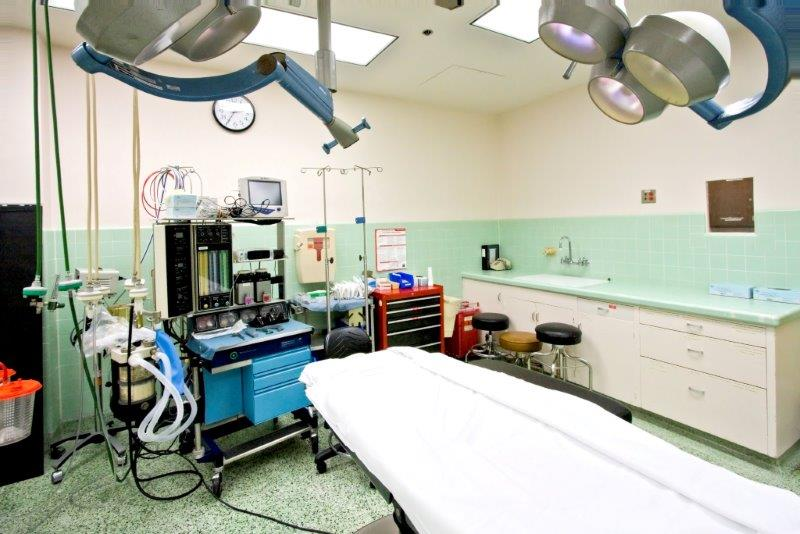bedside_monitor: (239, 174, 289, 216)
bedside_table: (380, 281, 445, 353)
breathing_tube: (128, 349, 198, 445)
chair: (311, 326, 373, 473), (534, 322, 594, 391), (465, 312, 511, 361), (501, 330, 543, 370)
counter: (464, 256, 797, 476)
countertop: (466, 267, 800, 323)
dispenser: (541, 246, 558, 258)
faucet: (557, 235, 590, 269)
handle: (687, 386, 705, 395), (687, 346, 705, 355), (686, 322, 704, 331), (497, 293, 506, 306), (598, 306, 610, 313), (535, 311, 540, 323), (578, 322, 583, 334), (530, 311, 535, 323)
iv_pole: (302, 159, 346, 364), (348, 162, 383, 381)
medical_drawer: (210, 340, 303, 424)
medical_waste_container: (293, 226, 338, 286)
operating_bed: (297, 345, 800, 534)
sink: (514, 272, 604, 290)
surgical_light: (537, 1, 737, 130), (69, 1, 264, 70)
utility_cart: (297, 295, 375, 359)
ventilator: (103, 282, 176, 431)
